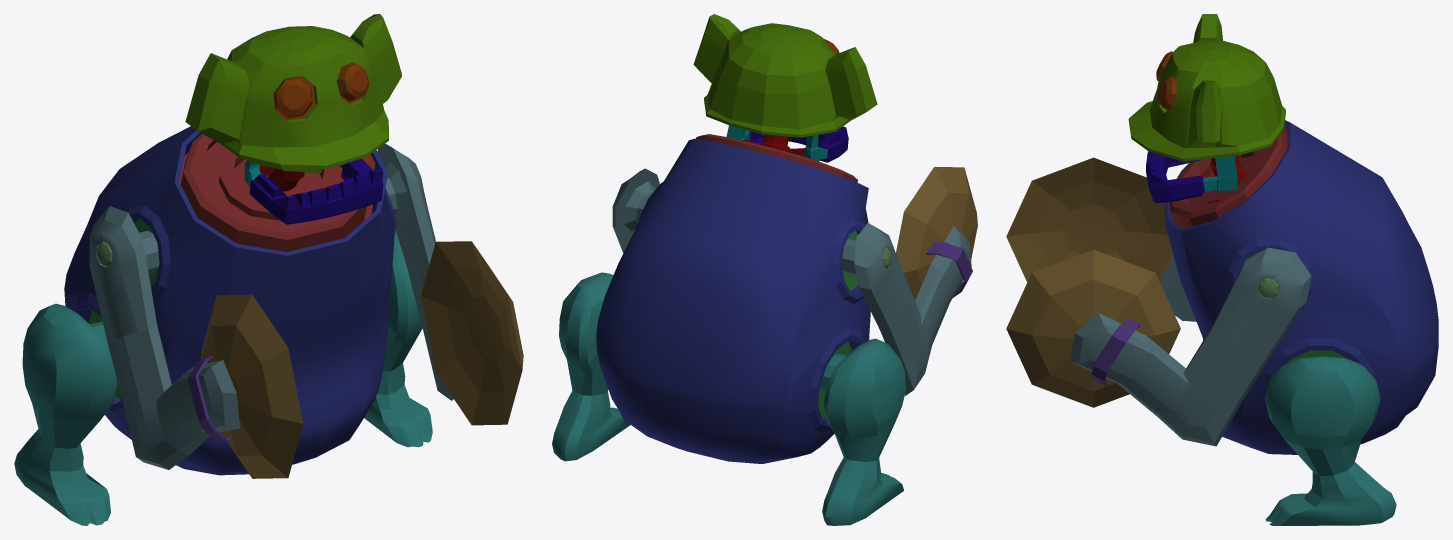
File: Monkey.fbx
The picture shows the model from 3 angles, left to right: view 1: azimuth 30°, elevation 25°; view 2: azimuth 150°, elevation 25°; view 3: azimuth 270°, elevation 25°; orthographic projection. The views are drawn at different scales.
Parts seen in each view (by area): view 1: group2_pCube3; view 2: group2_pCube3; view 3: group2_pCube3.
Boxes of the visible parts, x1,y1,x2,y2 form: group2_pCube3: [14, 14, 523, 525]; group2_pCube3: [552, 14, 977, 525]; group2_pCube3: [1006, 14, 1438, 525].
Bounding box in the file's own units: 0.8275 × 0.9614 × 0.9273.
